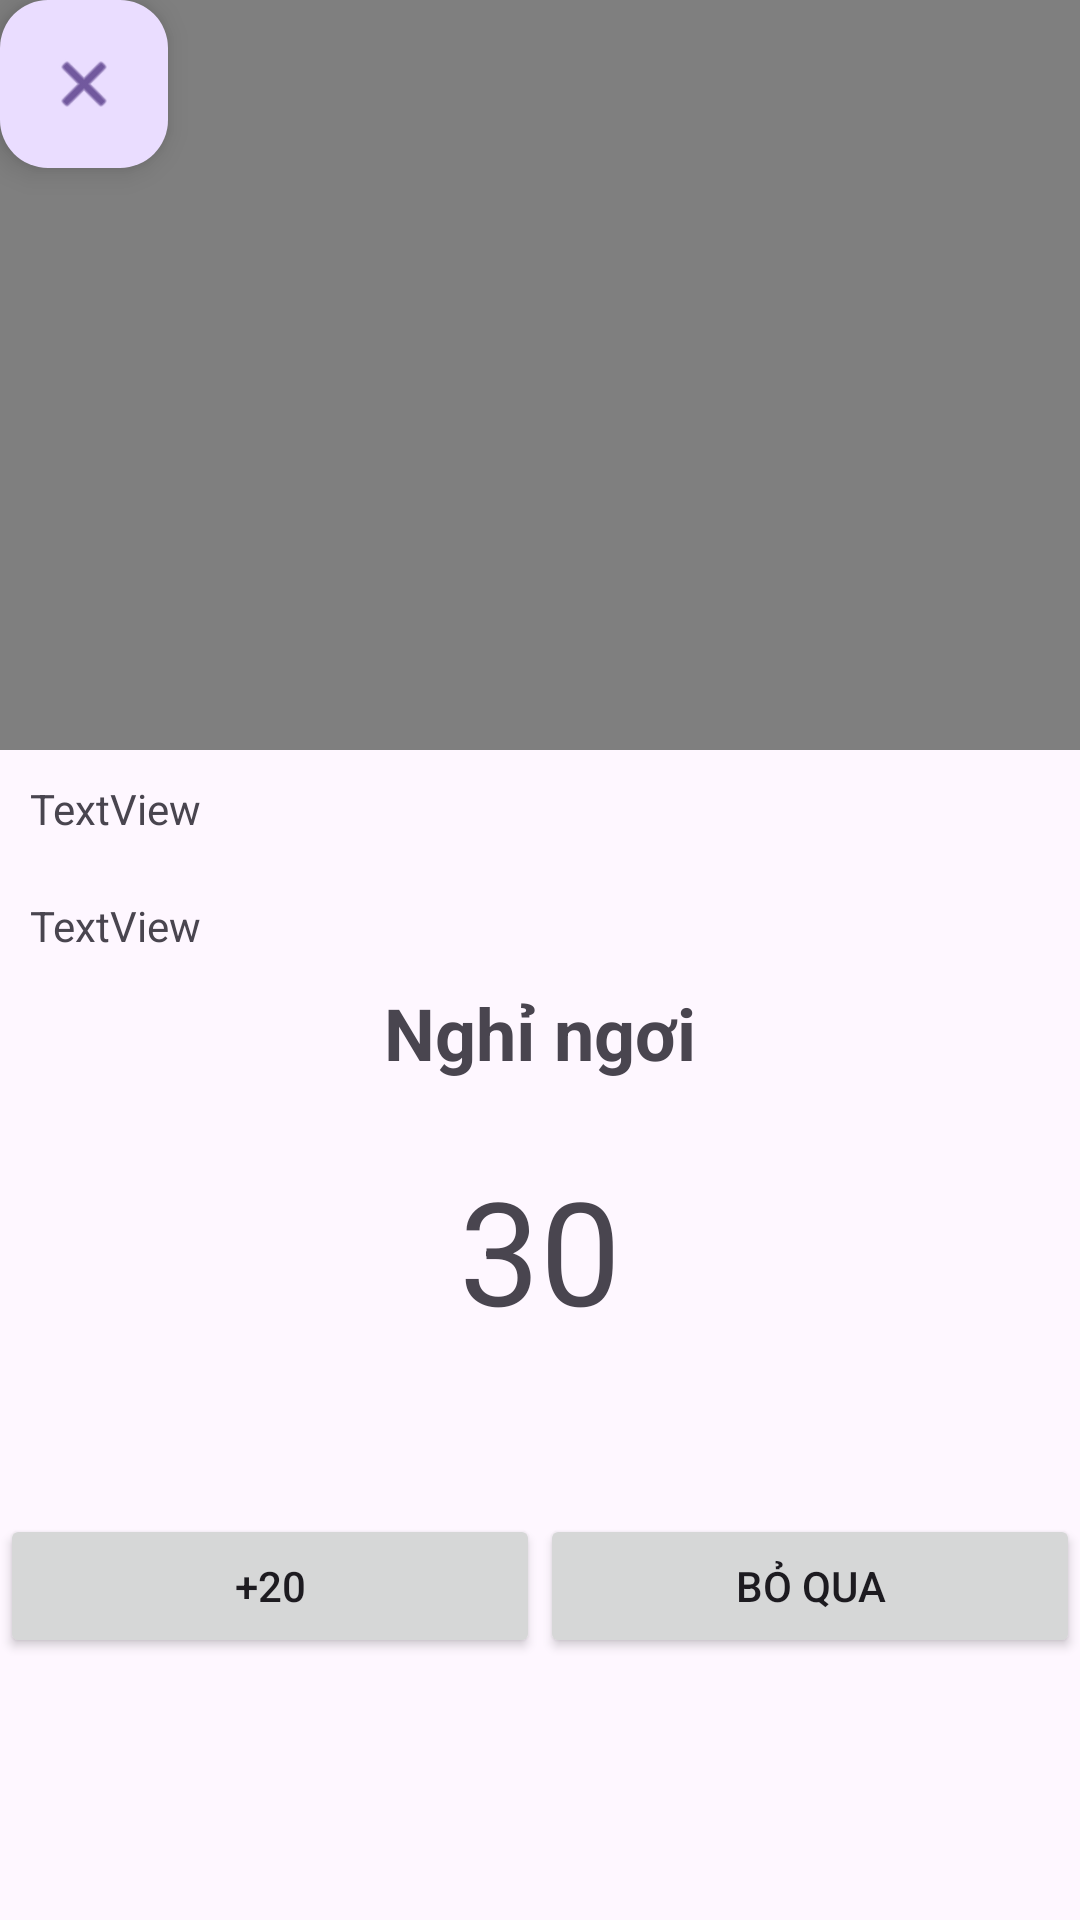

Screen size 1080 × 1920. Icon name, then its center in pixels as point (x, y):
close clear cancel: point (84, 84)
